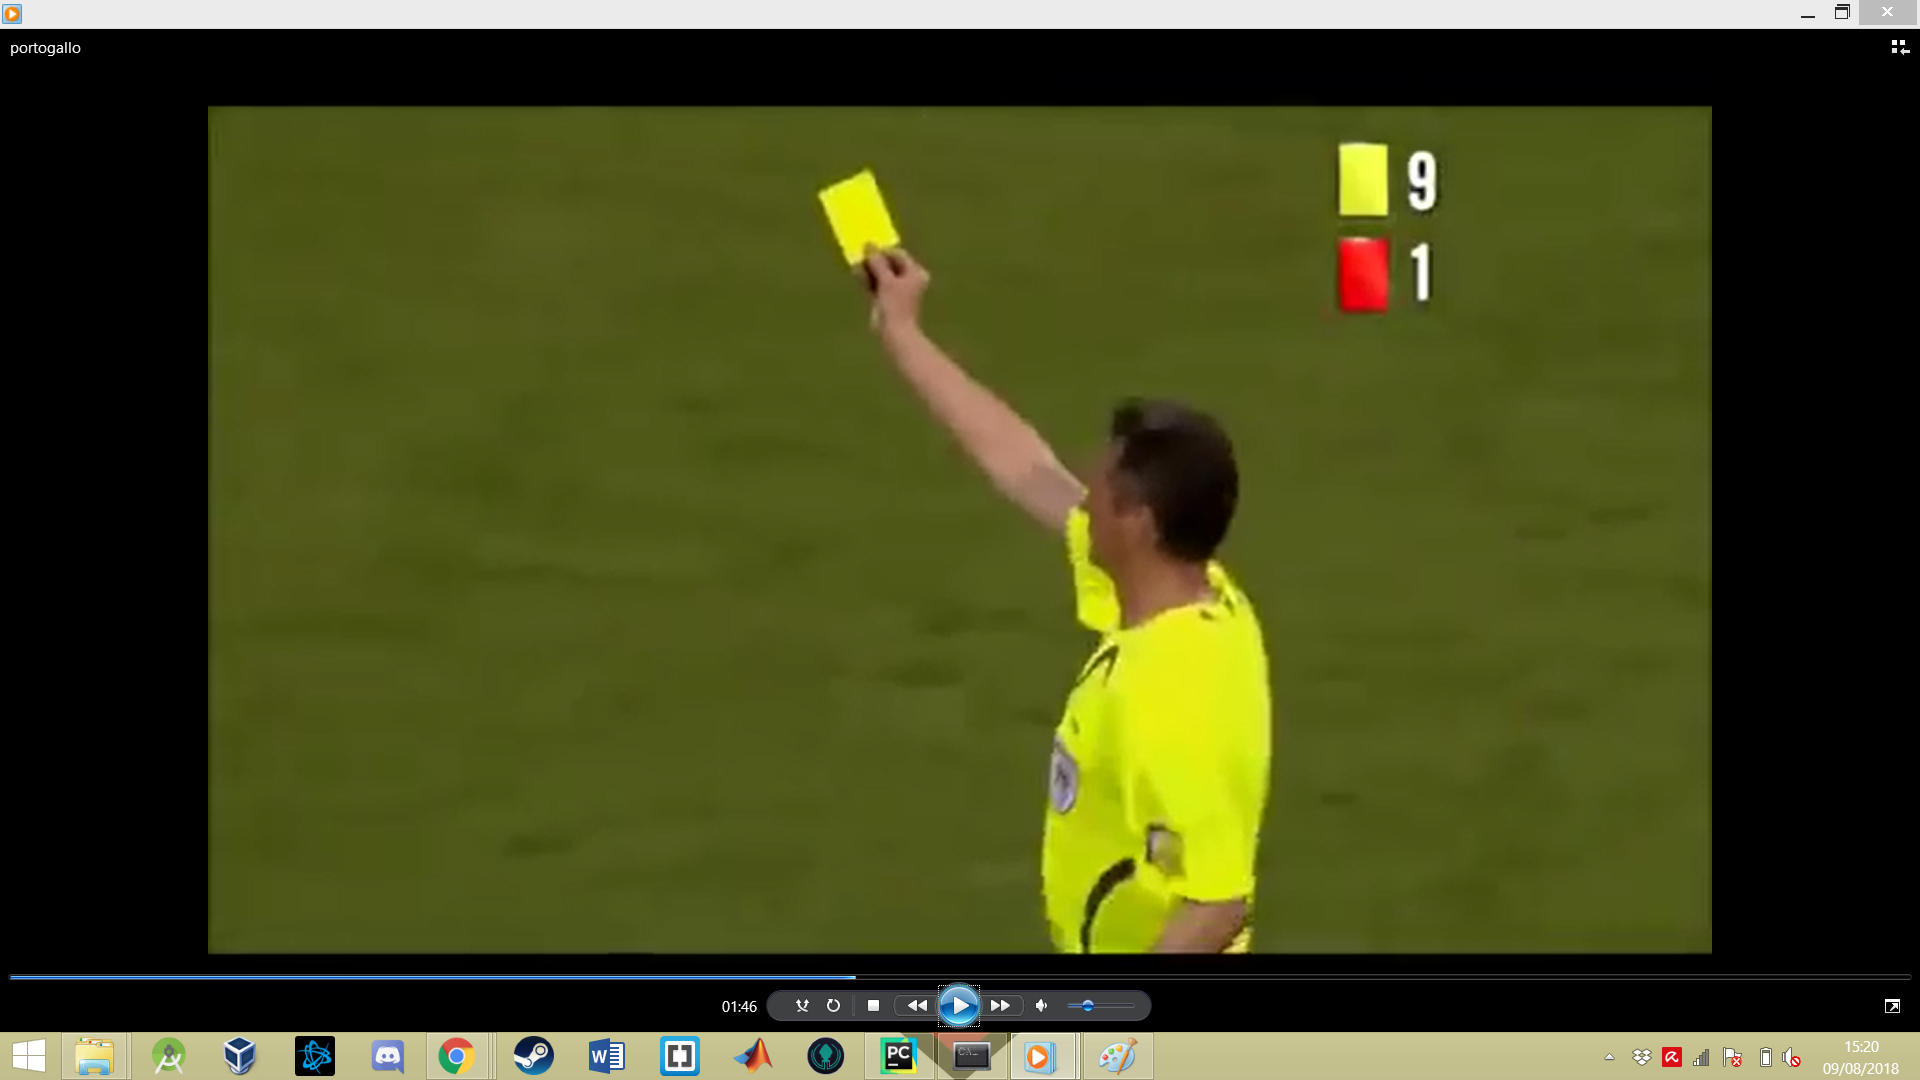yellow_card: (804, 162, 942, 349)
